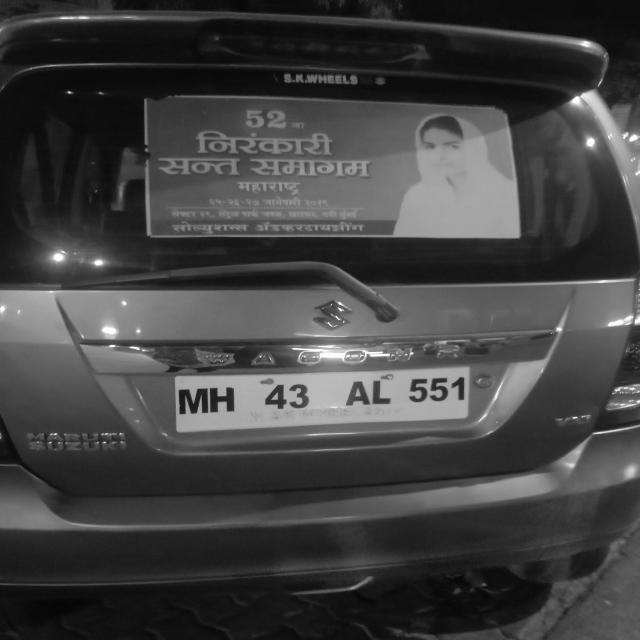car: (0, 12, 638, 628)
license-plate: (168, 365, 474, 446)
